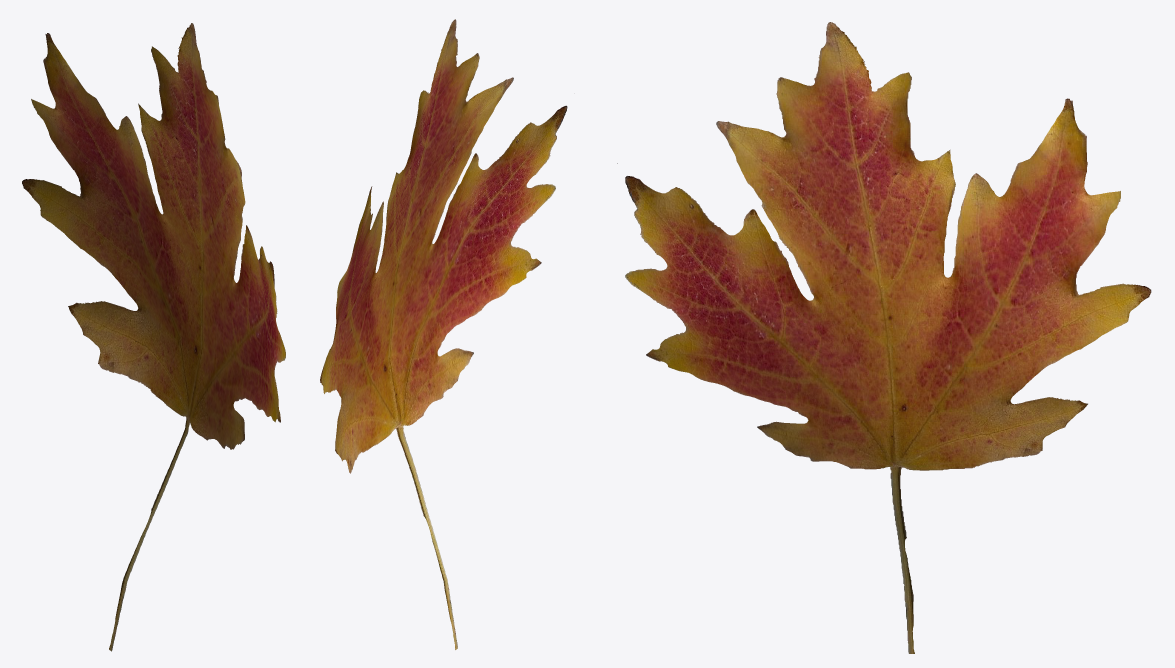
File: LEAF8.fbx
The picture shows the model from 3 angles, left to right: view 1: azimuth 30°, elevation 25°; view 2: azimuth 150°, elevation 25°; view 3: azimuth 270°, elevation 25°; orthographic projection. The views are drawn at different scales.
Parts seen in each view (by area): view 1: FALL61.001; view 2: FALL61.001; view 3: FALL61.001.
Part boxes in pixels (x1,y1,x2,y2): FALL61.001: [22, 23, 285, 651]; FALL61.001: [320, 19, 567, 649]; FALL61.001: [617, 22, 1151, 653].
Size of the model in its own units: 12.93 by 97.82 by 74.45.
